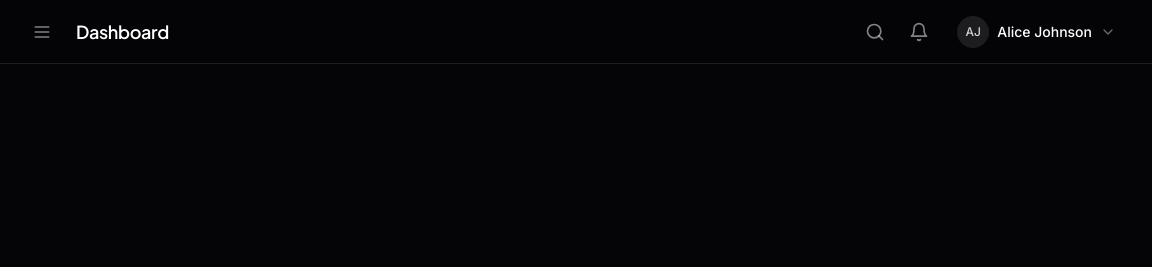
Test: Header › closes popover on Escape key
Click the button with aria-label "User menu" at point(1037, 32), box x1=945 y1=10 x2=1128 y2=54
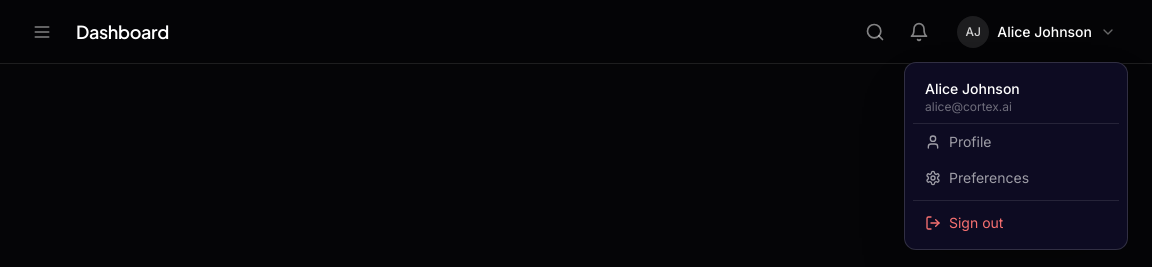
Result: the menu is shown at x1=904 y1=62 x2=1128 y2=250
Press Escape
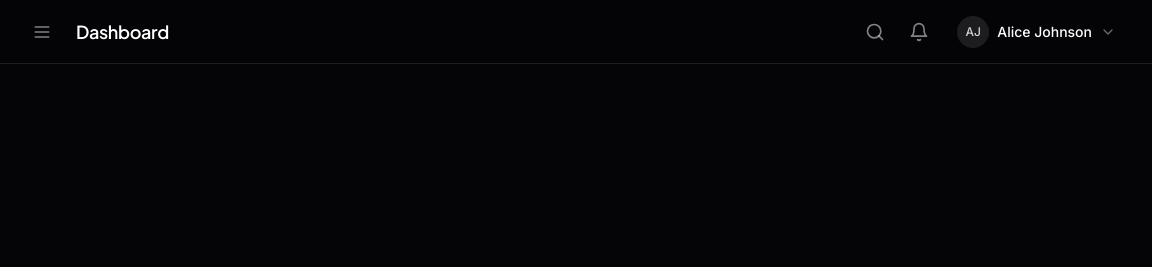
Result: the menu is gone
